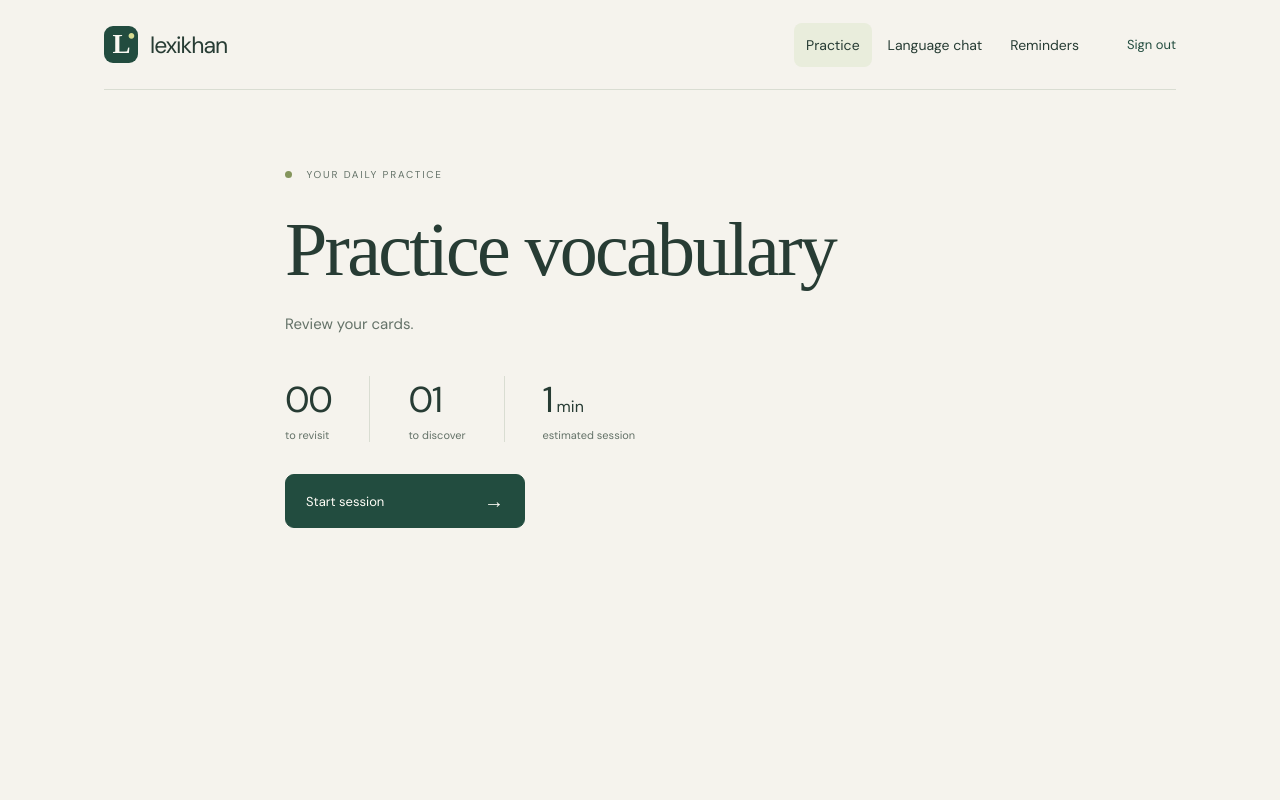
daily practice › completes prompt → reveal → grade with correct version and saved typed answer
The image size is (1280, 800).
Click the button "Start session →": click(405, 501) [285,474,525,528]
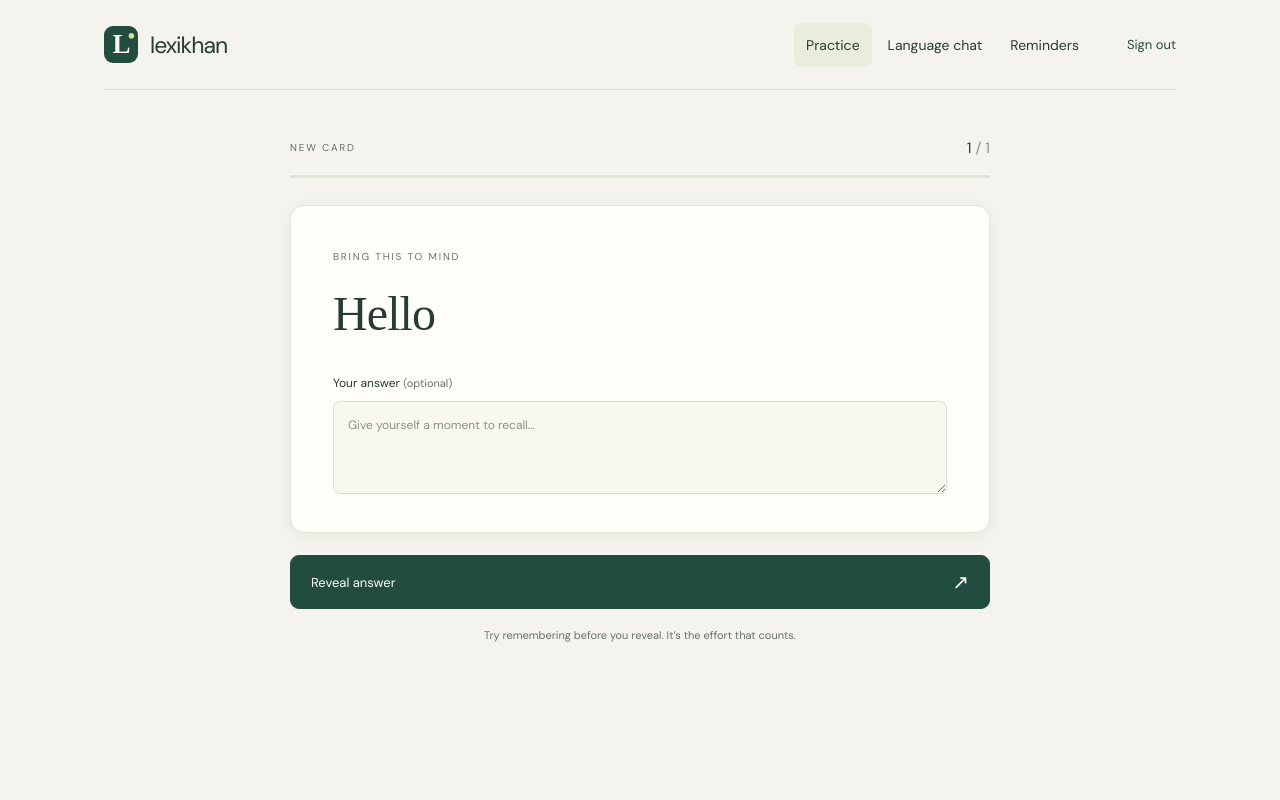
In the text box labelled "Your answer (optional)": (640, 448) [333,401,947,494], type "Bon jour"
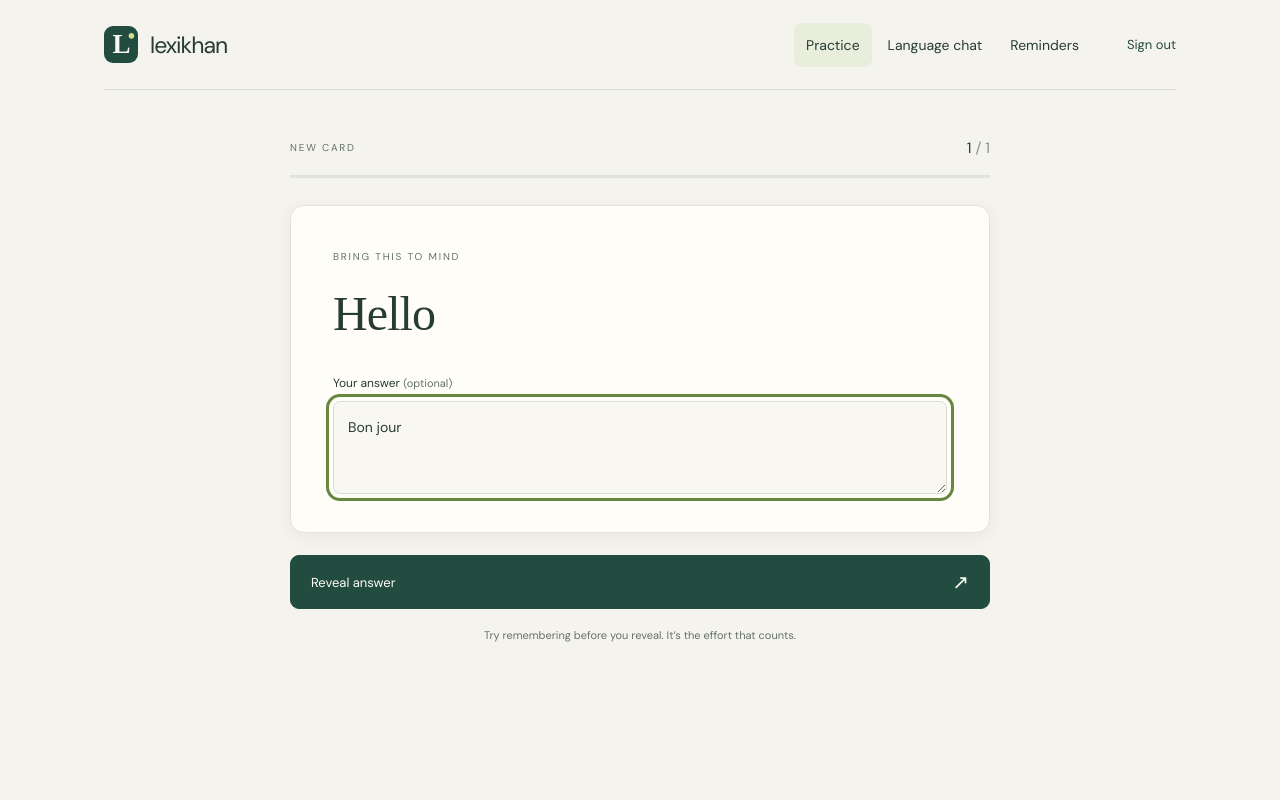
Expected: the text "Bonjour" is not shown
Click the button "Reveal answer ↗": click(353, 582) [290,555,990,609]
(page scrolled)
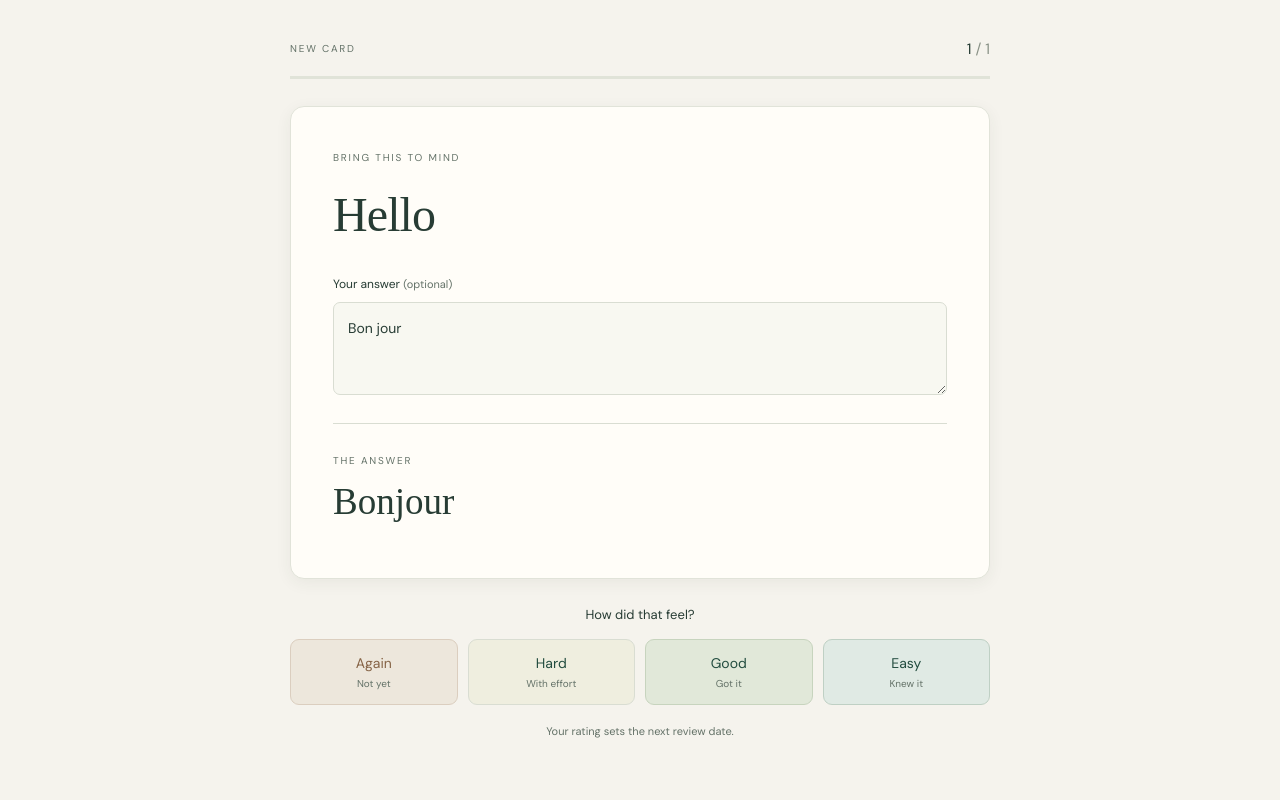
Now the heading "Bonjour" is shown, box [333,481,454,522]
Click the button "Good Got it": click(729, 672) [645,639,812,705]
(page scrolled)
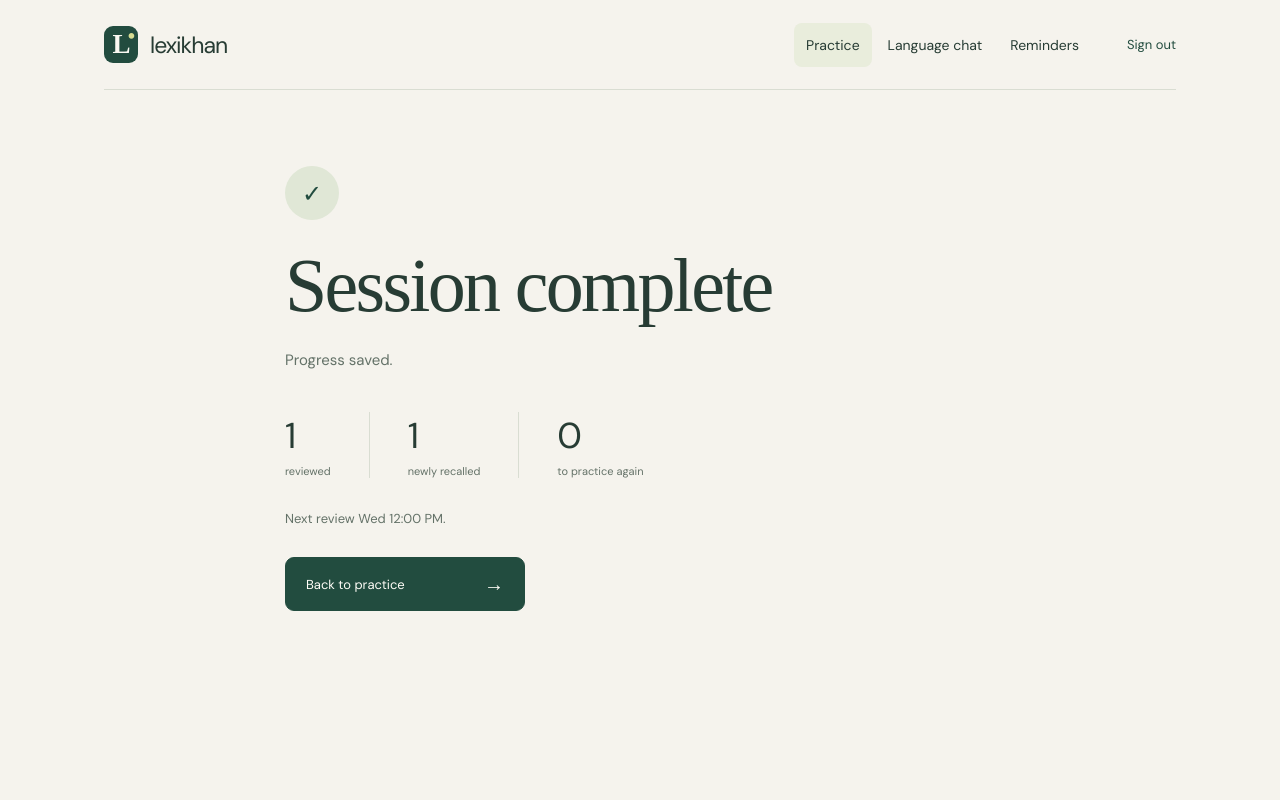
Now the text "Progress saved." is shown, box [285,350,393,370]
Now the text "newly recalled" is shown, box [408,464,480,478]
